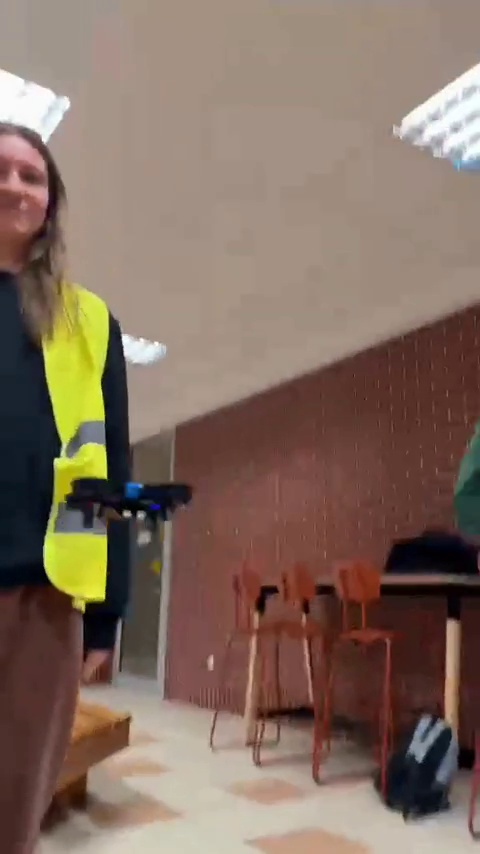drone: (71, 476, 192, 524)
vest: (0, 111, 135, 854)
